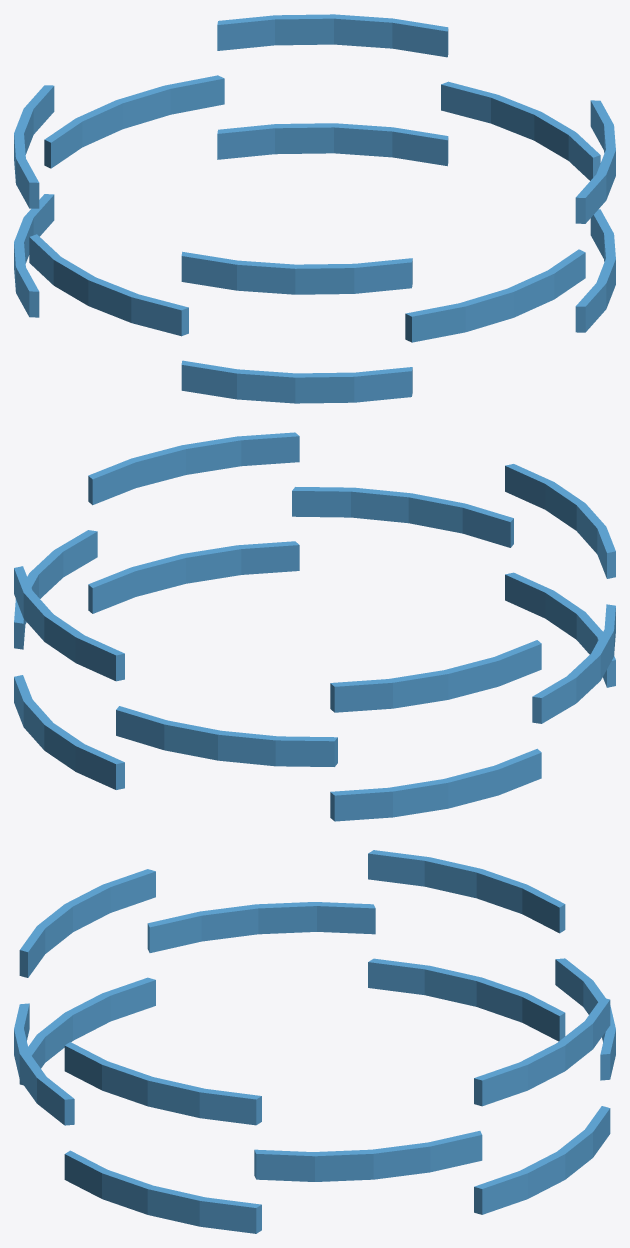
File: spin_eff.fbx
The picture shows the model from 3 angles, top to bottom: view 1: azimuth 30°, elevation 25°; view 2: azimuth 150°, elevation 25°; view 3: azimuth 270°, elevation 25°; orthographic projection.
Parts seen in each view (by area): view 1: 円柱.002, 円柱.003, 円柱.001; view 2: 円柱.003, 円柱.001, 円柱.002; view 3: 円柱.003, 円柱.001, 円柱.002.
Part boxes in pixels (<box>): 円柱.002: <box>29,75,600,342</box>; 円柱.003: <box>14,14,615,294</box>; 円柱.001: <box>14,123,615,403</box>; 円柱.003: <box>14,432,615,712</box>; 円柱.001: <box>14,541,615,821</box>; 円柱.002: <box>14,487,615,766</box>; 円柱.003: <box>19,850,610,1125</box>; 円柱.001: <box>19,958,610,1233</box>; 円柱.002: <box>14,902,615,1181</box>.
Size of the model in its own units: 600 by 600 by 148.
